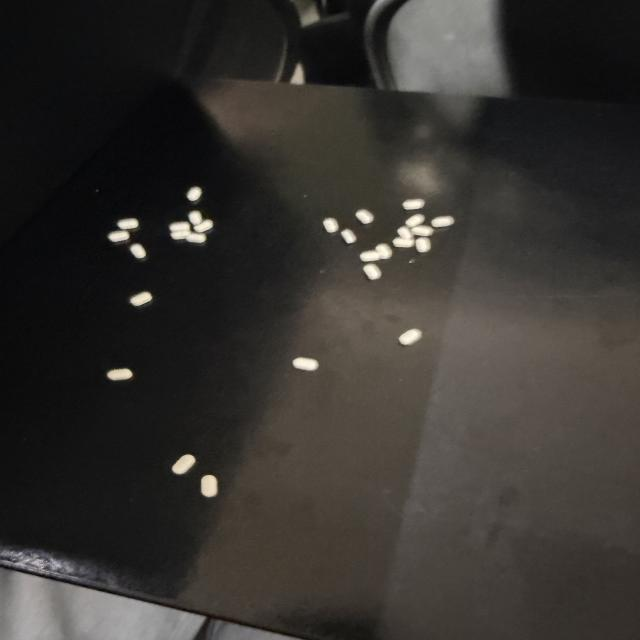pill: (172, 454, 196, 475), (398, 328, 422, 346), (201, 475, 218, 497), (129, 291, 153, 306), (293, 357, 318, 371), (363, 263, 381, 280), (107, 369, 132, 380), (194, 219, 213, 233), (405, 214, 425, 227), (356, 209, 373, 224), (431, 216, 454, 227), (402, 199, 425, 210), (108, 230, 129, 242), (360, 250, 380, 262), (130, 244, 146, 259), (323, 218, 339, 233), (376, 244, 392, 259), (117, 218, 138, 229), (412, 225, 433, 236), (341, 229, 356, 244), (186, 187, 202, 201), (169, 221, 190, 231), (188, 210, 203, 224), (393, 237, 414, 247), (416, 238, 431, 252), (185, 233, 206, 243), (171, 230, 191, 240), (398, 227, 412, 239)
